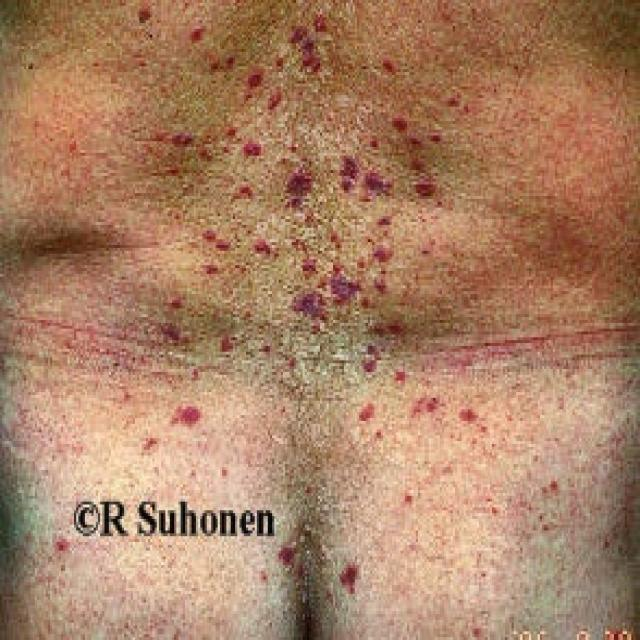Psoriasis-pictures-Lichen-Planus: (121, 7, 525, 499)
